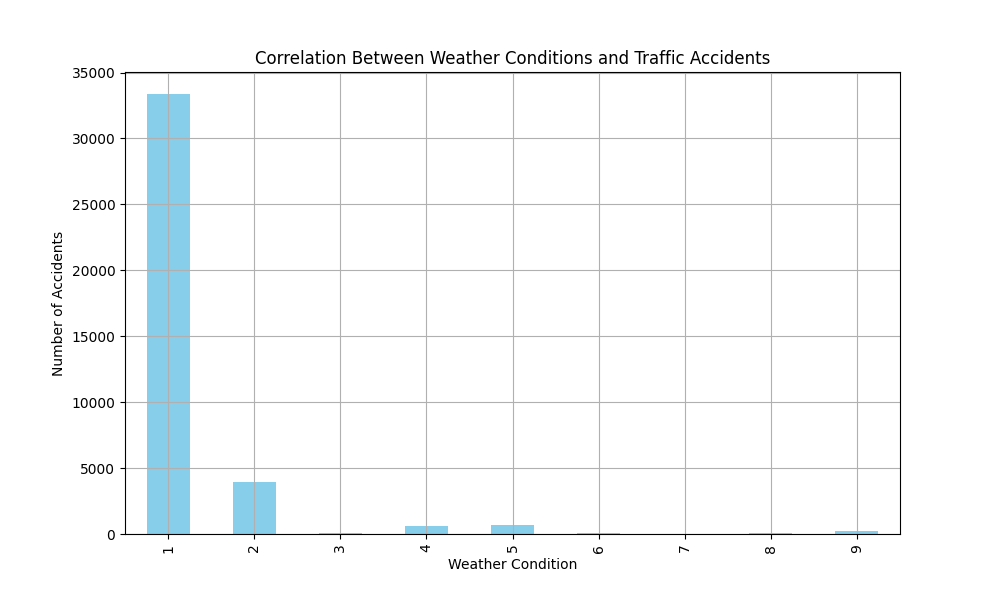

Layout of this report page (visuals, bound fields, positions):
{"tool":"tableau","page":{"name":"Dashboard 1","canvas":[1000,1000],"units":"permille","ordinal":0},"visuals":[{"type":"worksheet","title":"Sheet 2","mark":"Bar","rows":["count"],"cols":["date","date"],"box":[1.8,480.7,991,499.4]}]}

Visuals, with their boxes on the dashboard's canvas, which has no fixed pixel size, in thousandths of its width and height (x1, y1, x2, y2). These are canvas units, not pixel positions in the 1000x600 screenshot, which may show the page scaled, cropped or inside an application window:
"Sheet 2" worksheet (Bar marks): <bbox>2, 481, 993, 980</bbox>
